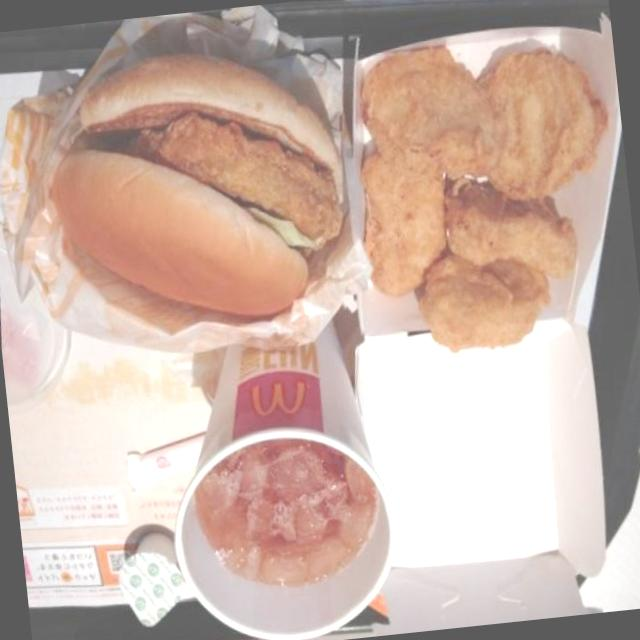Hamburger: (34, 19, 374, 354)
